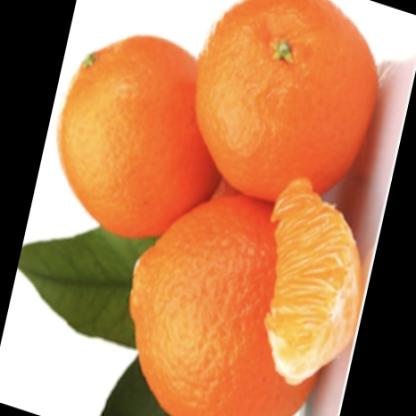fresh: (56, 1, 380, 416)
